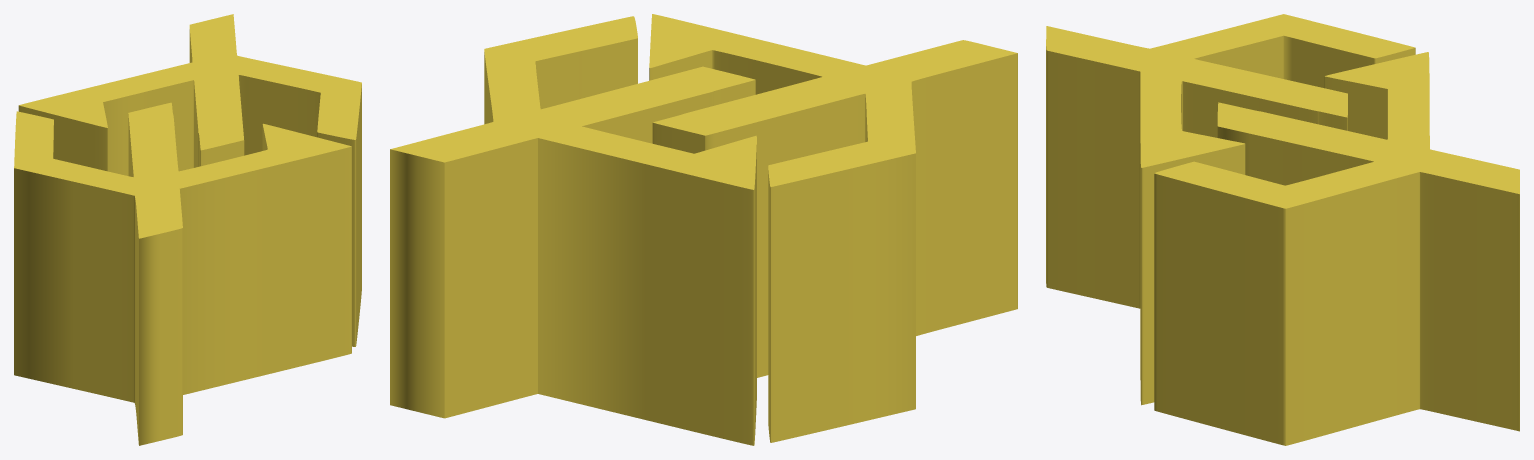
3 renders of one model, left to right at view 1: azimuth 30°, elevation 25°; view 2: azimuth 150°, elevation 25°; view 3: azimuth 270°, elevation 25°, orthographic. The views are drawn at different scales.
Parts seen in each view (by area): view 1: Curve.001, Curve; view 2: Curve, Curve.001; view 3: Curve, Curve.001.
Part boxes in pixels (x1,y1,x2,y2): Curve.001: (14,102,351,445); Curve: (18,14,361,346); Curve: (390,16,756,445); Curve.001: (649,14,1017,442); Curve: (1154,52,1519,445); Curve.001: (1046,14,1415,405).
Size of the model in its own units: 0.0704 by 0.04 by 0.0724.
